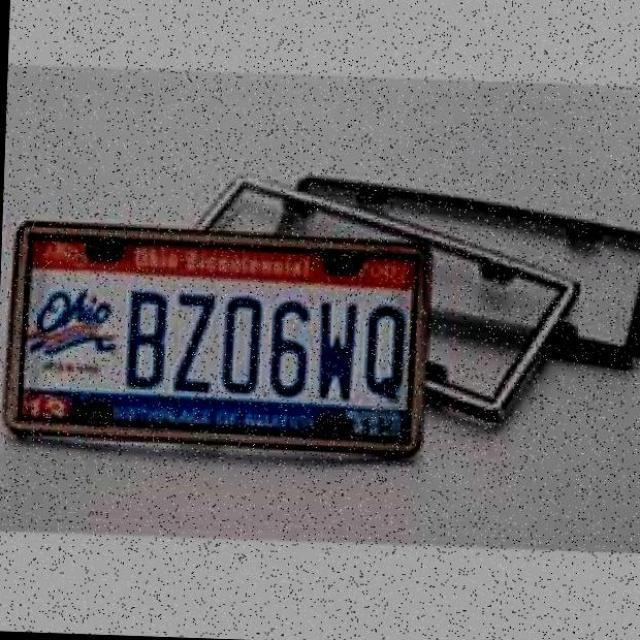License Plate: (29, 256, 414, 402)
